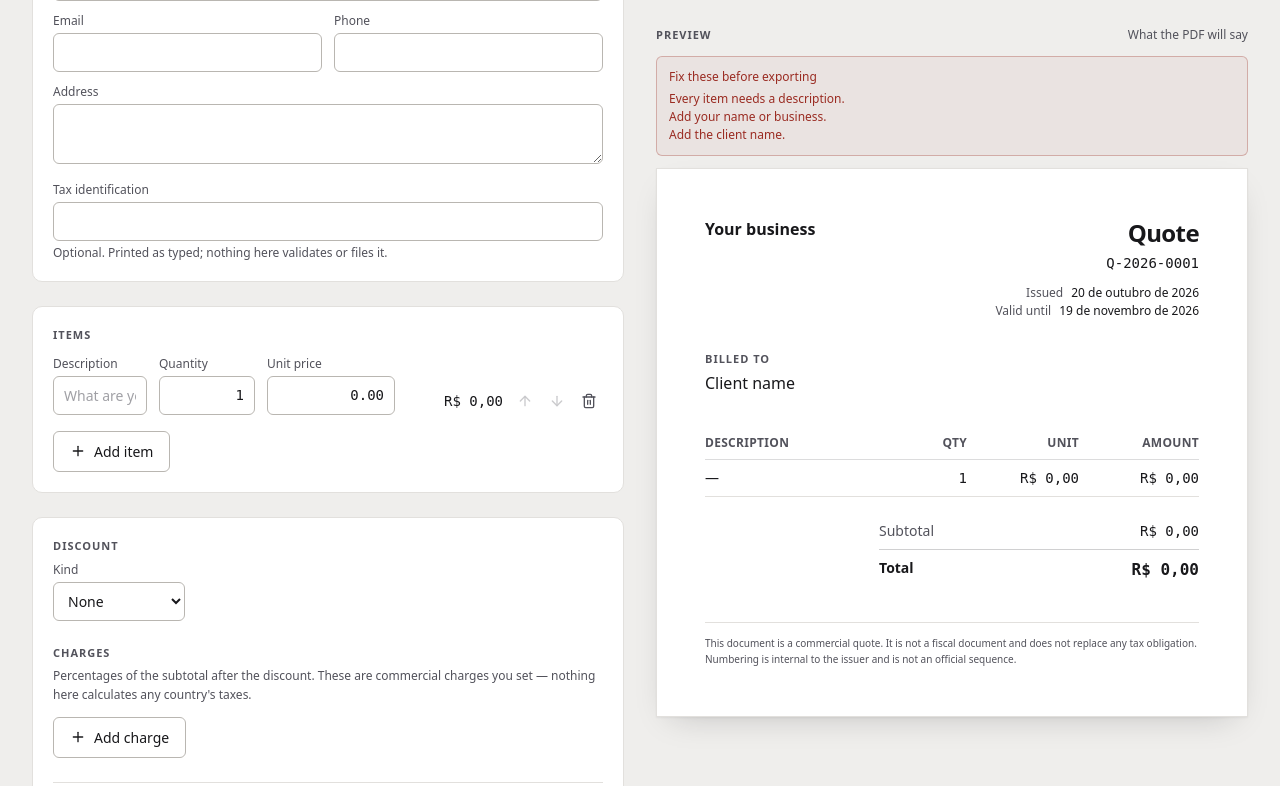
it: the editor › relabels the figures when the currency changes, without converting
(page scrolled)
Replace the text in the field labelled "Unit price" with "100" at [331, 395], box [267,376,395,414]
(page scrolled)
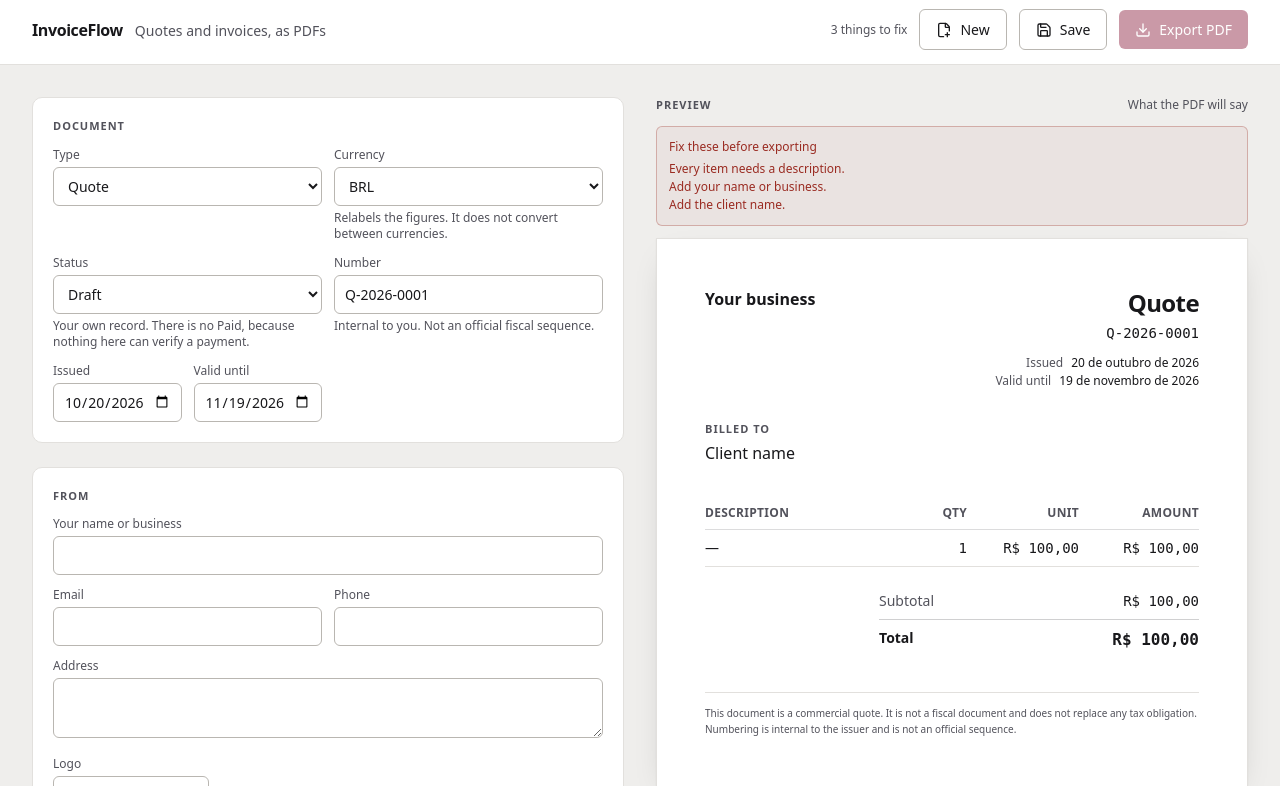
Select "USD" in the dropdown labelled "Currency" at [468, 186], box [334,166,603,206]
(page scrolled)
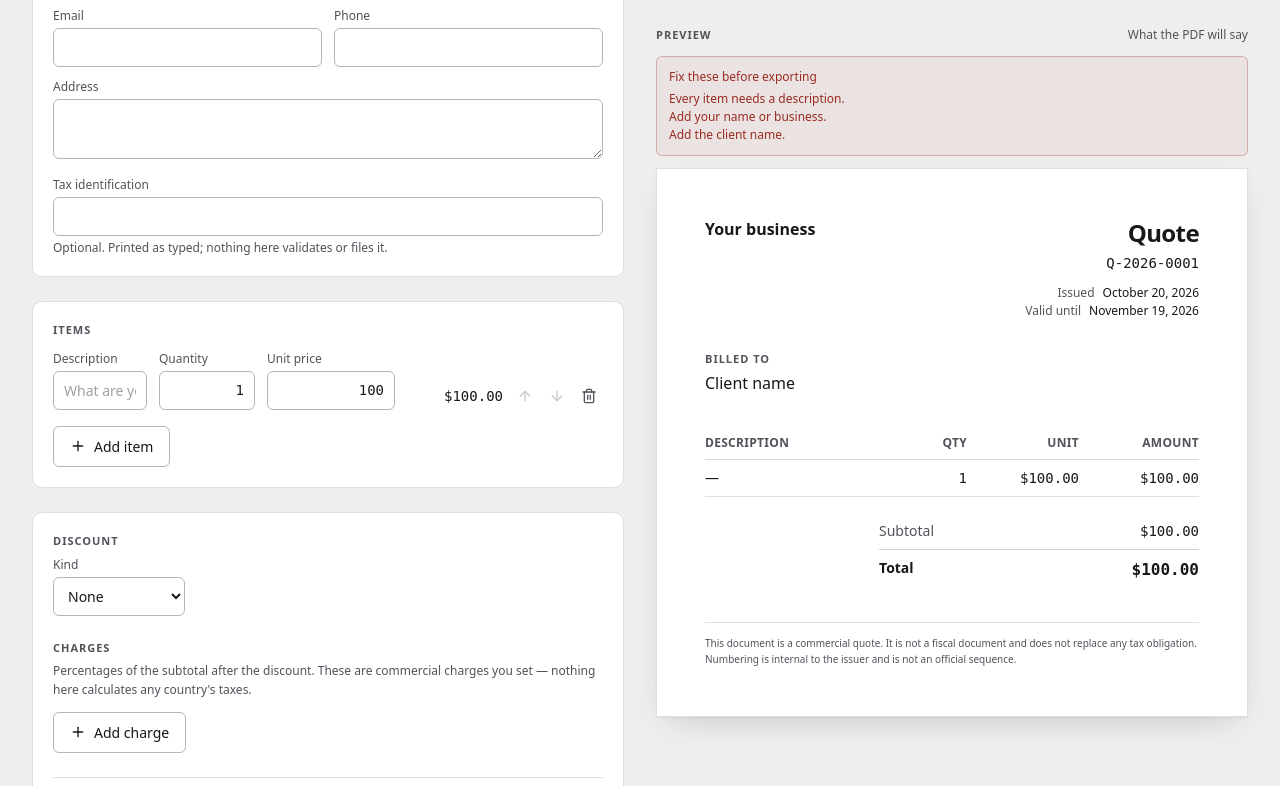
Result: the text "$100.00" below "Quantity" is shown at [444,388,503,404]
Result: the text "R$ 100,00" is gone
